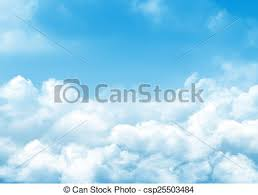sky: (2, 3, 254, 177)
